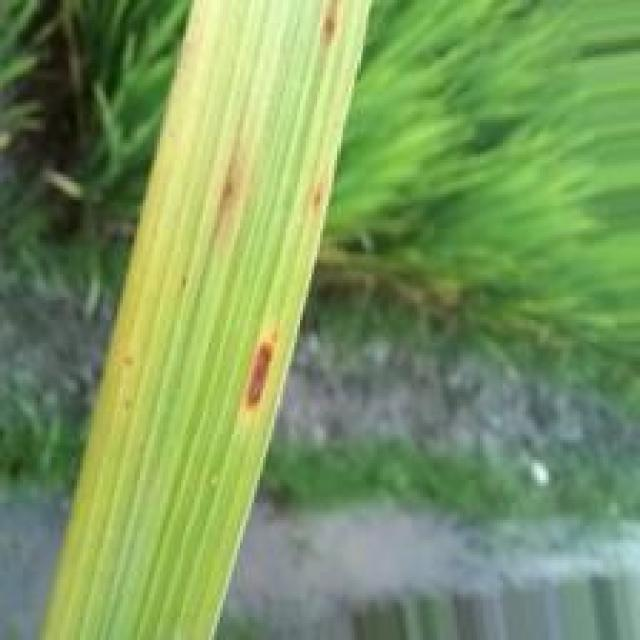Brown_Spot: (241, 331, 287, 416), (216, 150, 248, 245), (318, 0, 347, 42), (304, 183, 331, 216)
